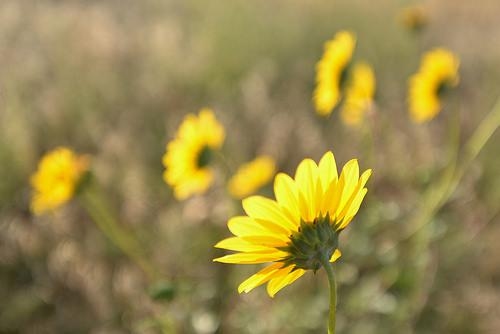sunflower: (216, 152, 372, 294), (161, 108, 220, 200)
